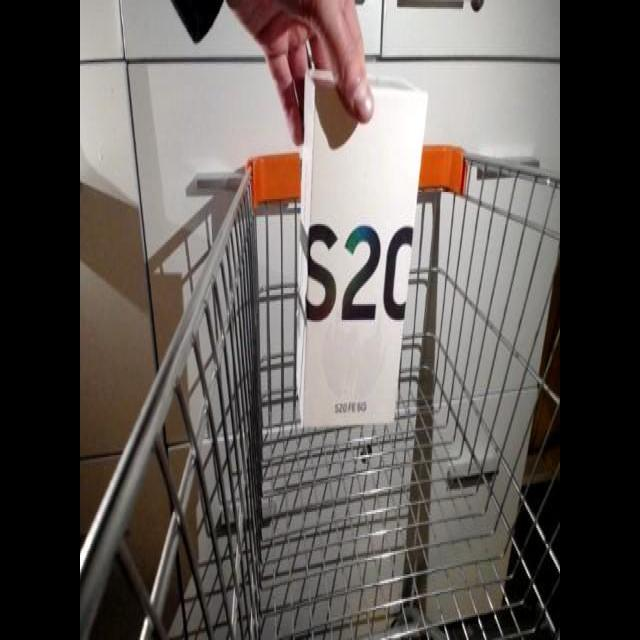Samsung S20: (291, 65, 431, 431)
